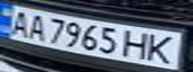5: (96, 25, 124, 56)
6: (78, 23, 103, 53)
7: (42, 16, 66, 46)
9: (60, 19, 84, 49)
A: (21, 11, 51, 42), (3, 8, 33, 37)
H: (121, 29, 154, 61)
K: (145, 32, 181, 65)
